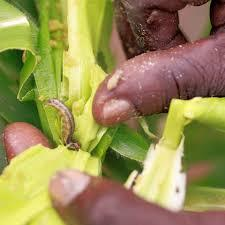fallarmy_worm: (41, 95, 86, 155)
